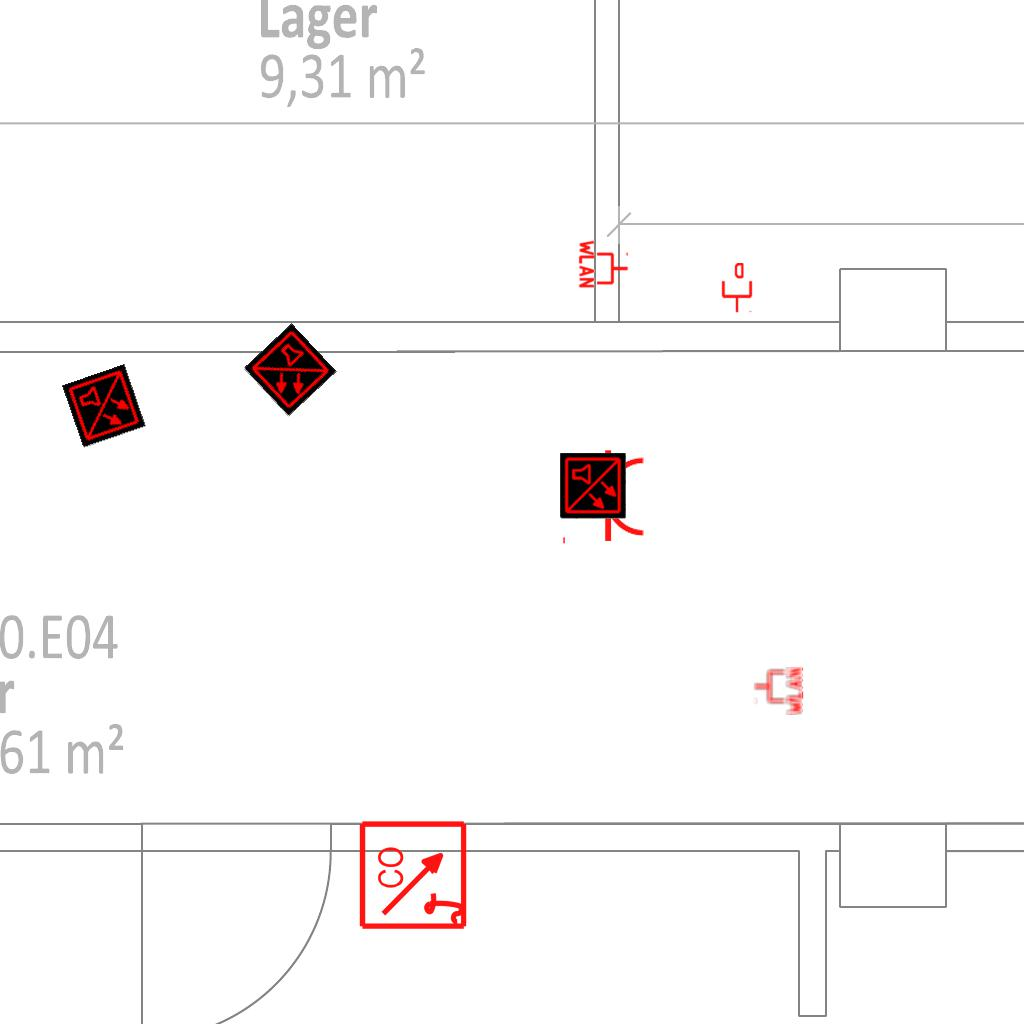Datenanschluss_einfach: (720, 263, 754, 313)
OKW_Multisensormelder_(Kombination_optischer_Rauch-Kahlenmonoxid_Waerme-Melder): (243, 323, 337, 417), (62, 364, 146, 448), (560, 453, 626, 519)
ROA_Rauchmelder_optisch_mit_Signalgeber_(Sockelsirene): (358, 818, 471, 931)
Schukosteckdose_einfach: (560, 448, 647, 548)
WLAN: (578, 238, 630, 290), (752, 665, 804, 717)
